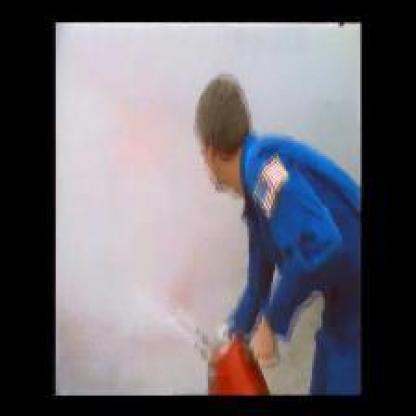other: (169, 302, 290, 390)
